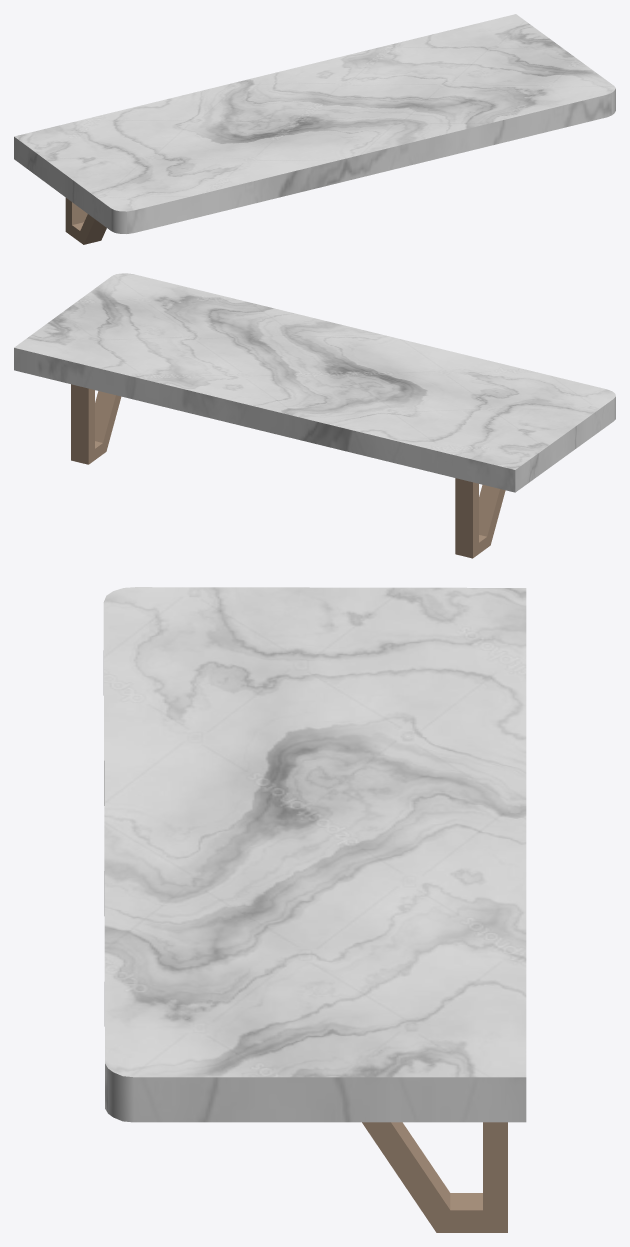
The model's file is Marble Shelf.fbx.
3 views of the same model, one above another, from view 1: azimuth 30°, elevation 25°; view 2: azimuth 150°, elevation 25°; view 3: azimuth 270°, elevation 25° (orthographic). The views are drawn at different scales.
Parts seen in each view (by area): view 1: Marble_Shelf_Combined; view 2: Marble_Shelf_Combined; view 3: Marble_Shelf_Combined.
Part boxes in pixels (box(x1,y1,x2,y2)): Marble_Shelf_Combined: box(14, 14, 615, 244); Marble_Shelf_Combined: box(14, 273, 615, 558); Marble_Shelf_Combined: box(103, 587, 526, 1232).
Size of the model in its own units: 77.12 by 15.17 by 28.1.
